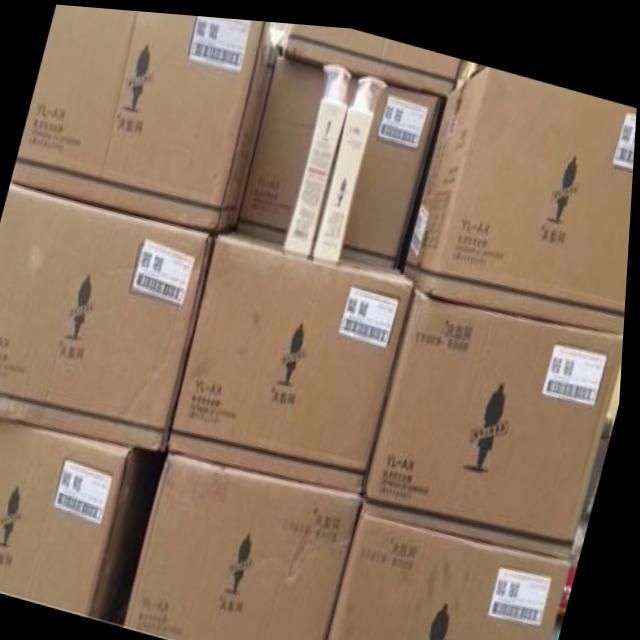box: (368, 275, 627, 548), (174, 219, 419, 489), (405, 59, 637, 321), (14, 4, 276, 228), (0, 183, 216, 447), (132, 447, 371, 640), (332, 488, 579, 640), (0, 417, 152, 615), (325, 62, 444, 261), (234, 51, 323, 243), (285, 19, 462, 82)
